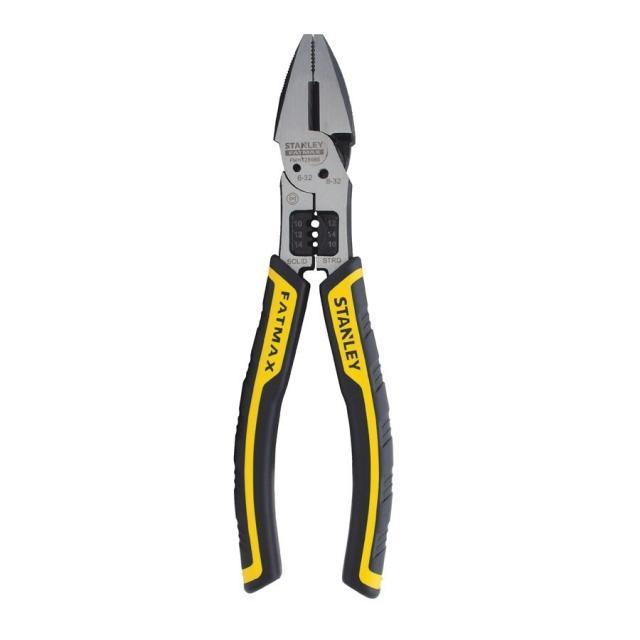pliers: (222, 26, 396, 608)
